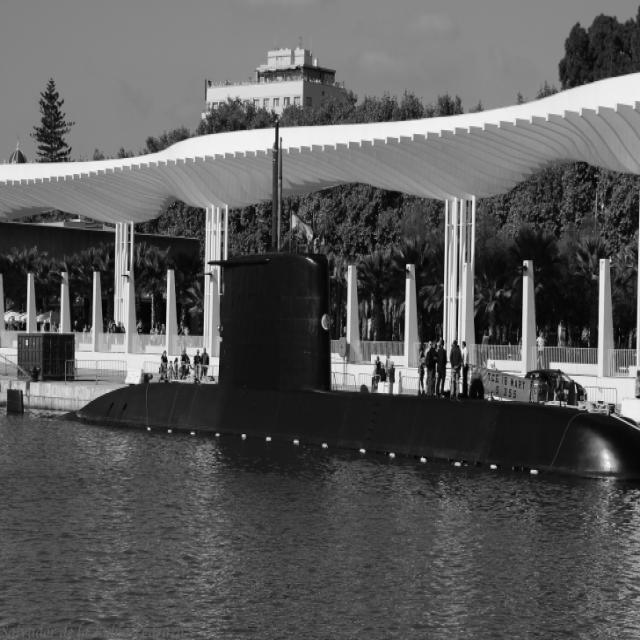submarine: (61, 252, 640, 485)
